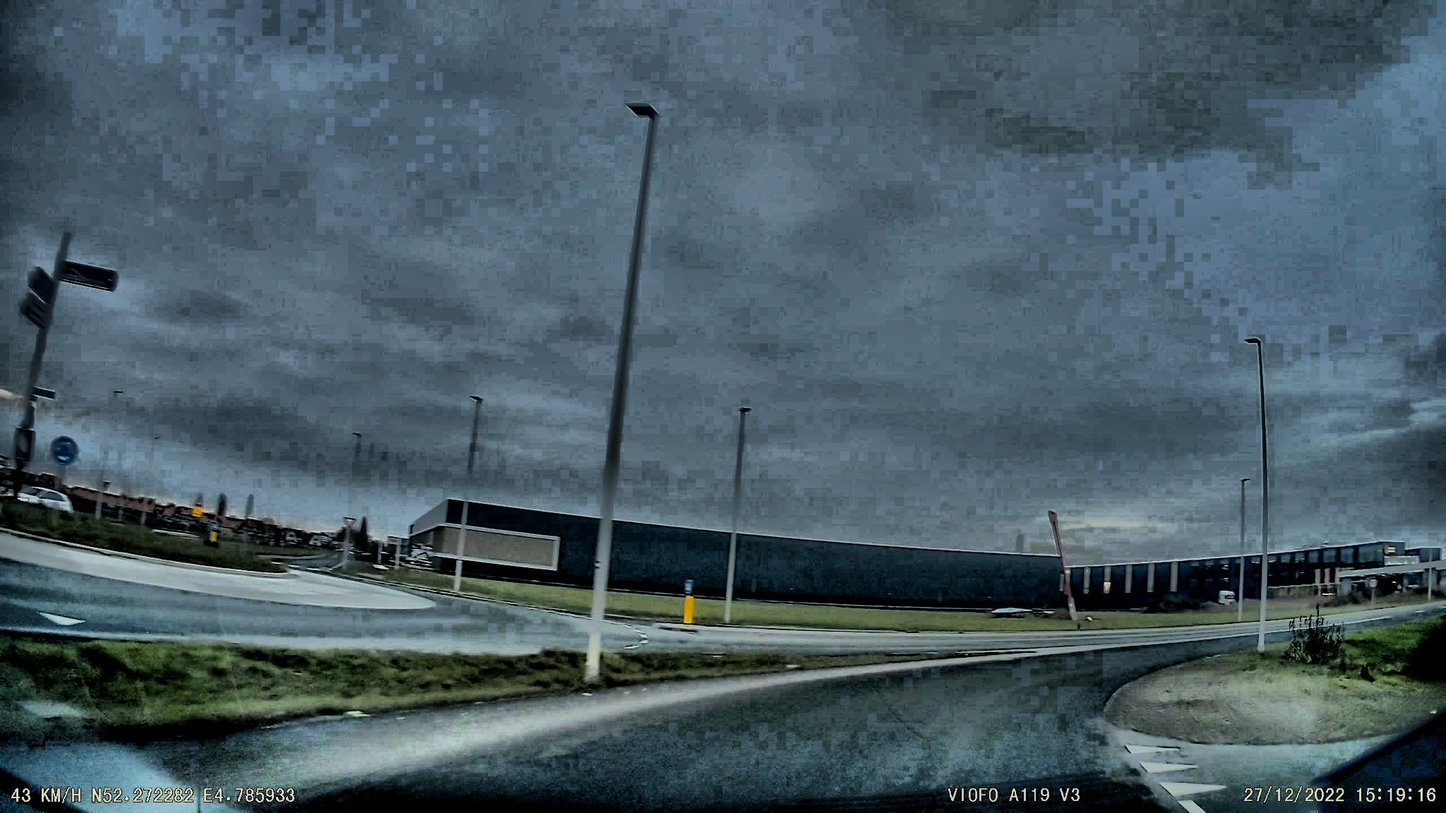Roads: (0, 640, 1253, 813), (0, 557, 681, 654)
